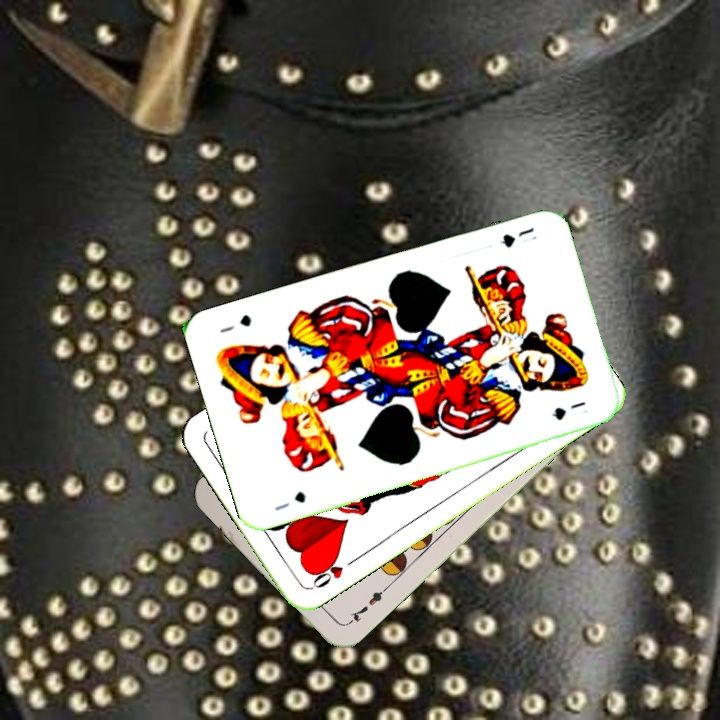E7: (342, 583, 390, 628)
GU: (496, 223, 537, 250), (271, 487, 308, 514)
HO: (307, 553, 359, 592)
